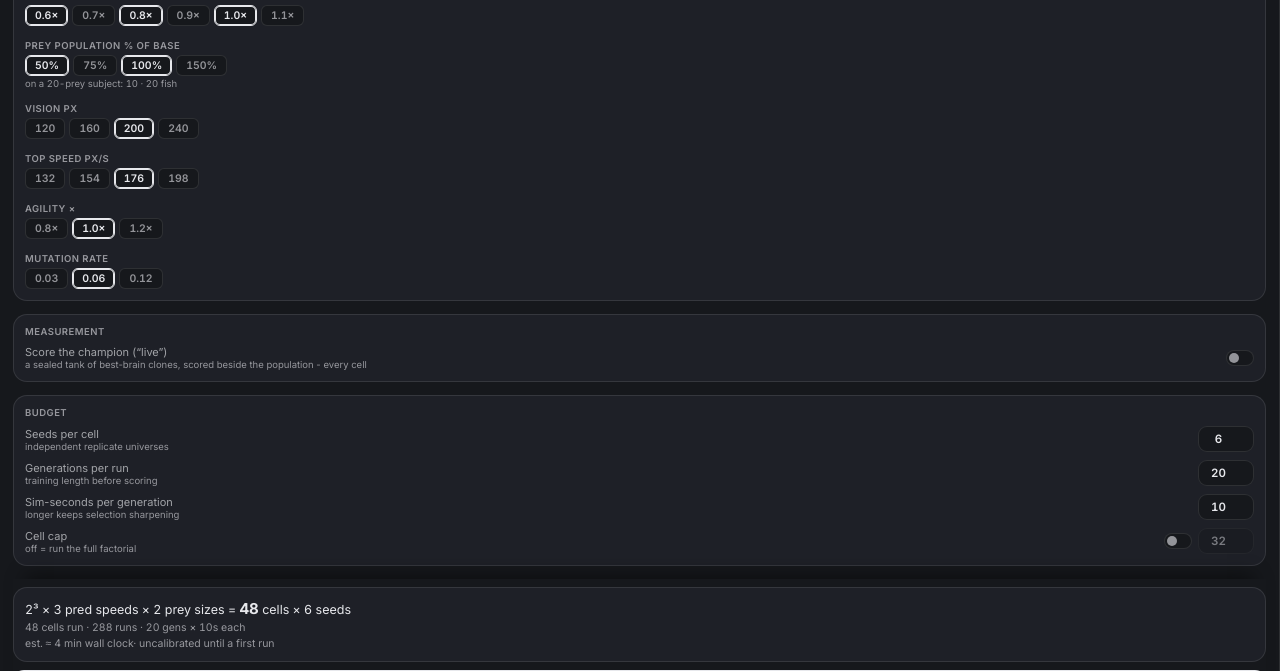
Test: SweepDesignPanel › the cap switch arms the cap and its count input
(page scrolled)
expect the number field named "cell cap" is disabled: met, box [1198,528,1254,554]
Click the switch named "cap the cell count". click: [1178, 541]
box: [1164,533,1192,549]
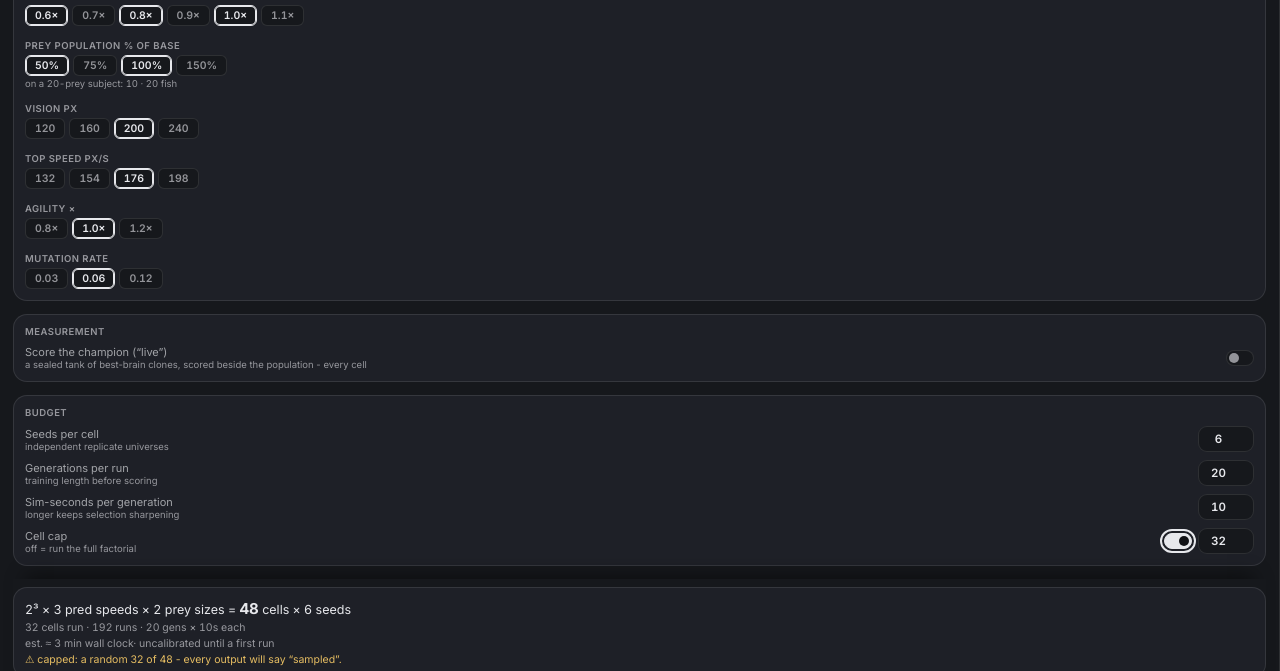
expect the number field named "cell cap" is enabled: met, box [1198,528,1254,554]
